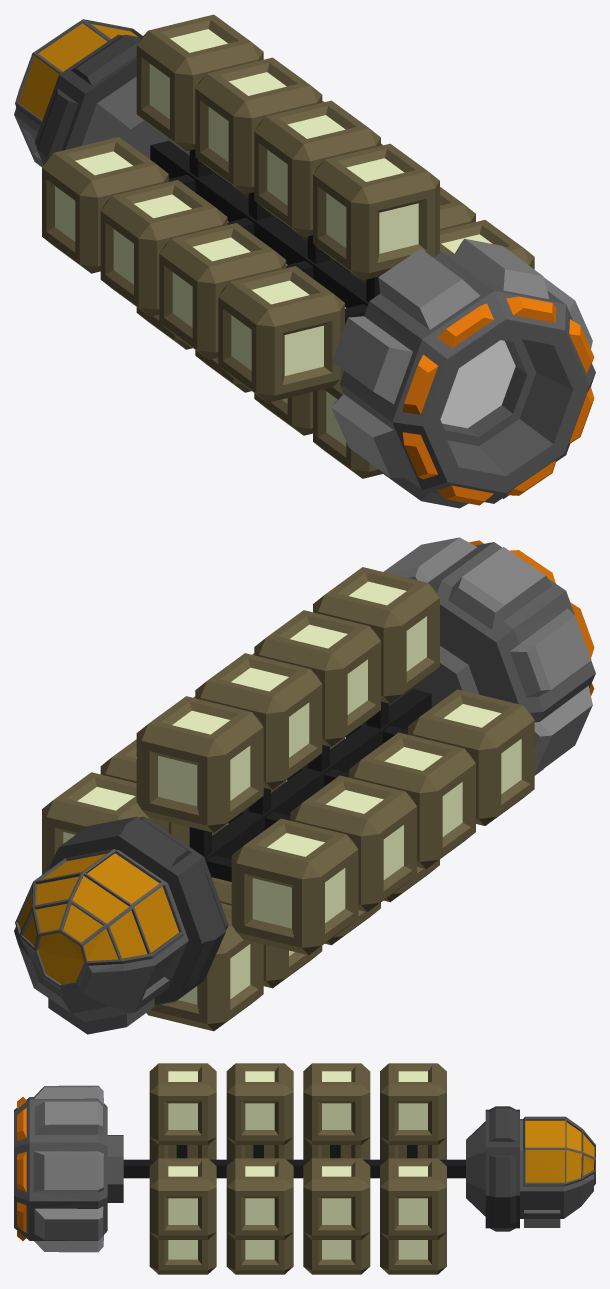
Rendered from LPSP_CargoFreighter.fbx.
The picture shows the model from 3 angles, top to bottom: view 1: azimuth 30°, elevation 25°; view 2: azimuth 150°, elevation 25°; view 3: azimuth 270°, elevation 25°; orthographic projection. The views are drawn at different scales.
Parts seen in each view (by area): view 1: Shipping Frigate; view 2: Shipping Frigate; view 3: Shipping Frigate.
Part boxes in pixels (x1=…): Shipping Frigate: x1=14, y1=14, x2=595, y2=508; Shipping Frigate: x1=14, y1=537, x2=595, y2=1034; Shipping Frigate: x1=14, y1=1063, x2=595, y2=1274.
Size of the model in its own units: 1916 by 1916 by 5315.
